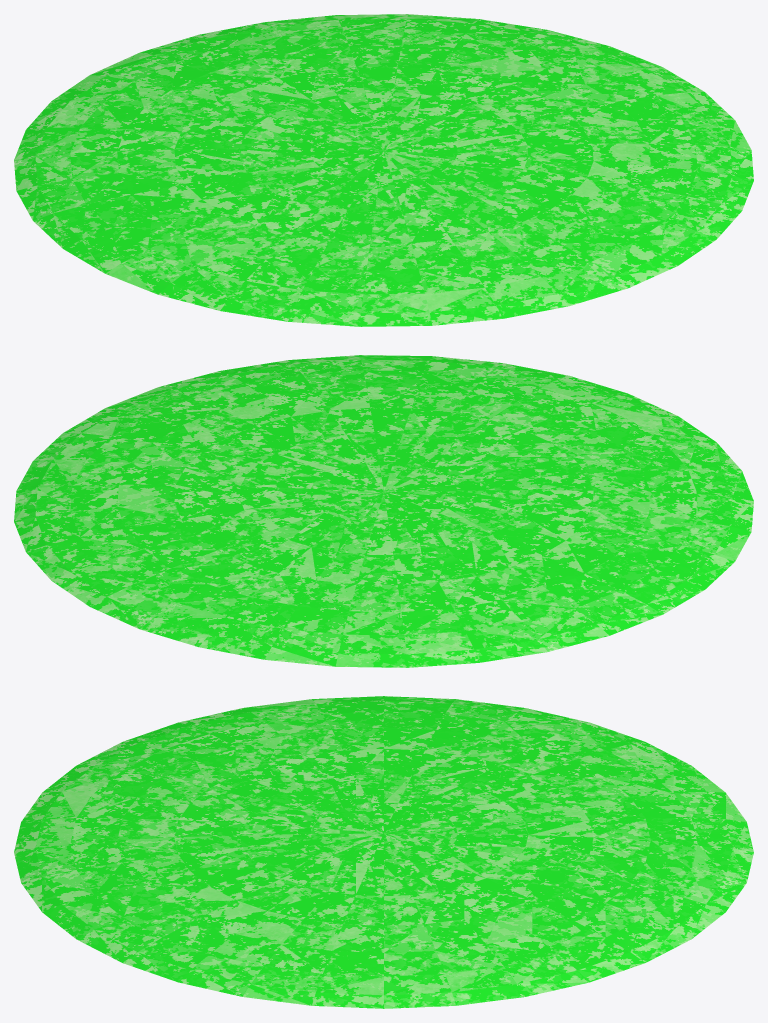
The model's file is green_tile.glb.
The picture shows the model from 3 angles, top to bottom: view 1: azimuth 30°, elevation 25°; view 2: azimuth 150°, elevation 25°; view 3: azimuth 270°, elevation 25°; orthographic projection.
Parts seen in each view (by area): view 1: Sphere.005; view 2: Sphere.005; view 3: Sphere.005.
Boxes of the visible parts, box(x1,y1,x2,y2) form: Sphere.005: box(14, 14, 753, 326); Sphere.005: box(14, 355, 753, 667); Sphere.005: box(14, 696, 753, 1008).
Size of the model in its own units: 10.52 by 0.2999 by 10.52.
1 material, 1 textured.
